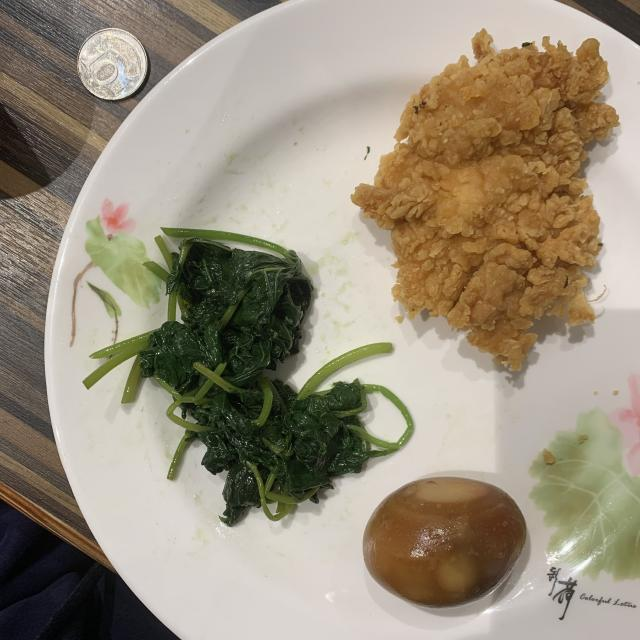coin: (78, 29, 148, 100)
fried chicken cutlet: (351, 31, 618, 370)
soy egg: (364, 478, 526, 606)
sweet potato leaves: (84, 228, 412, 525)
